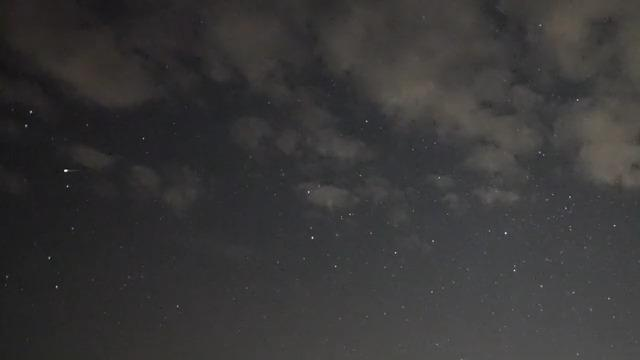meteorite: (58, 166, 88, 178)
